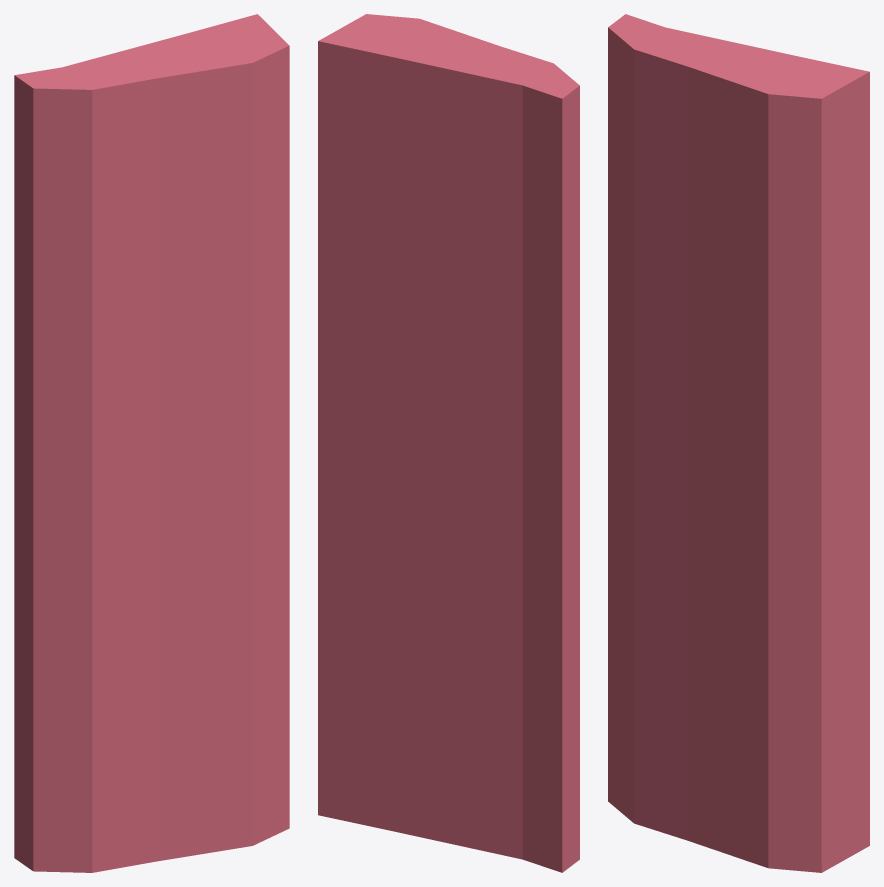
File: loch_arbour.glb
The picture shows the model from 3 angles, left to right: view 1: azimuth 30°, elevation 25°; view 2: azimuth 150°, elevation 25°; view 3: azimuth 330°, elevation 25°; orthographic projection.
Visible parts, largest first — view 1: Plane.073; view 2: Plane.073; view 3: Plane.073.
Boxes of the visible parts, x1,y1,x2,y2 form: Plane.073: [14, 14, 289, 872]; Plane.073: [318, 14, 579, 872]; Plane.073: [608, 14, 869, 872].
Size of the model in its own units: 0.1263 by 0.3856 by 0.0437.
